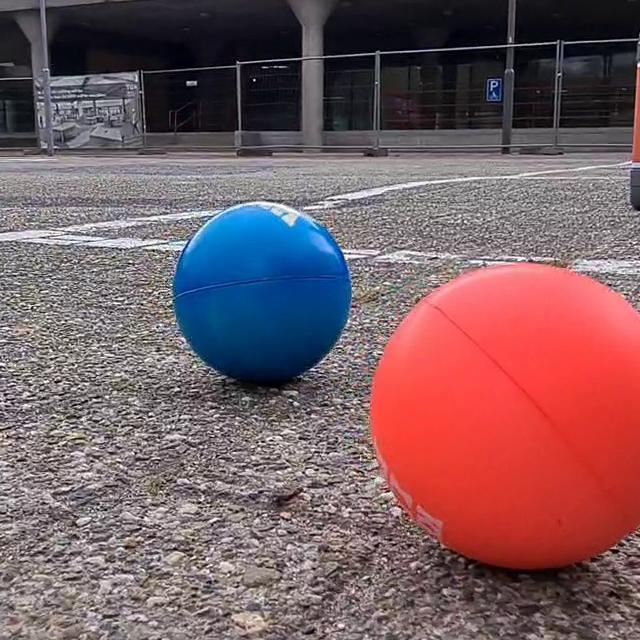ball: (365, 259, 640, 573), (172, 199, 352, 389)
